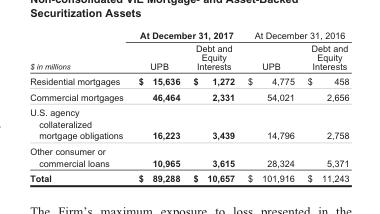table: (29, 29, 348, 182)
table column: (29, 29, 130, 182), (240, 29, 300, 182), (130, 29, 185, 182), (185, 29, 240, 182), (300, 29, 348, 182)
table column header: (29, 29, 348, 73)
table row: (29, 104, 348, 142), (29, 40, 348, 73), (29, 142, 348, 169), (29, 88, 348, 104), (29, 73, 348, 88), (29, 169, 348, 182), (29, 29, 348, 40)
table spanning cell: (29, 29, 130, 73), (130, 29, 240, 40), (240, 29, 348, 40)
